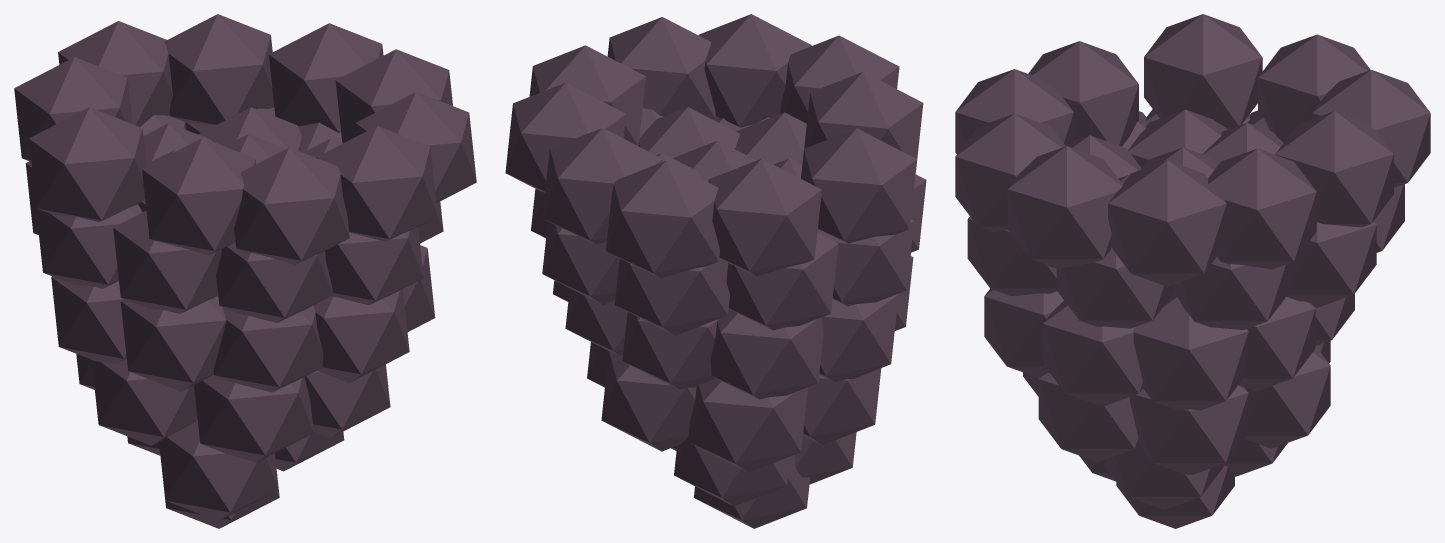
File: blackberries.fbx
The picture shows the model from 3 angles, left to right: view 1: azimuth 30°, elevation 25°; view 2: azimuth 150°, elevation 25°; view 3: azimuth 270°, elevation 25°; orthographic projection. The views are drawn at different scales.
Visible parts, largest first — view 1: Icosphere.424; view 2: Icosphere.424; view 3: Icosphere.424.
Boxes of the visible parts, <box> form: Icosphere.424: <box>14,14,476,528</box>; Icosphere.424: <box>505,14,926,528</box>; Icosphere.424: <box>955,14,1430,528</box>.
Bounding box in the file's own units: 3951 × 4204 × 3971.
